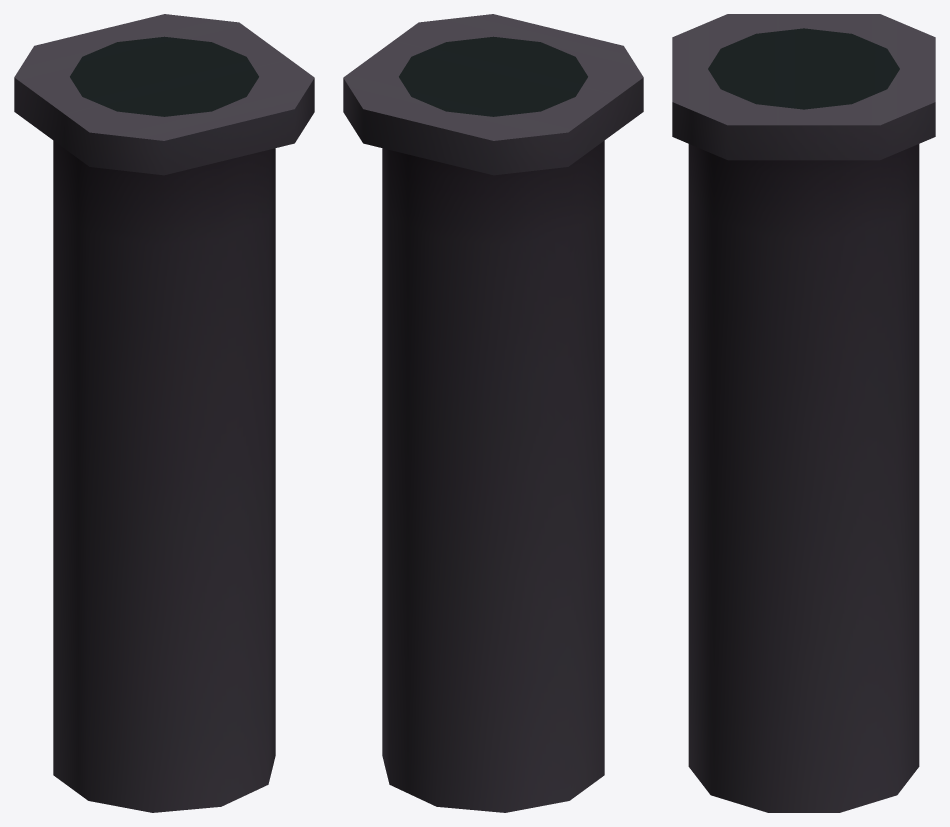
Rendered from Pipe_2A.fbx.
3 views of the same model, side by side, from view 1: azimuth 30°, elevation 25°; view 2: azimuth 150°, elevation 25°; view 3: azimuth 270°, elevation 25° (orthographic).
Parts seen in each view (by area): view 1: Pipe_2A; view 2: Pipe_2A; view 3: Pipe_2A.
Part boxes in pixels (bbox=[...]): Pipe_2A: bbox=[14, 14, 314, 812]; Pipe_2A: bbox=[343, 14, 643, 812]; Pipe_2A: bbox=[672, 14, 935, 812].
Size of the model in its own units: 1.37 by 4.01 by 1.37.
